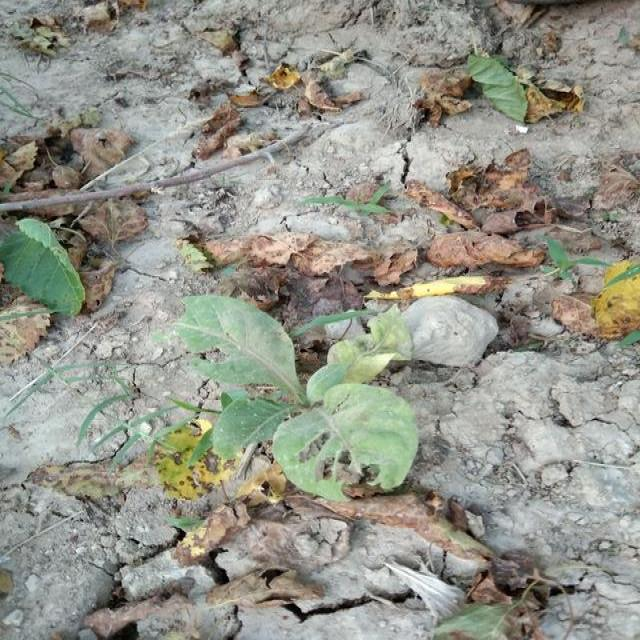crop: (180, 303, 414, 508)
